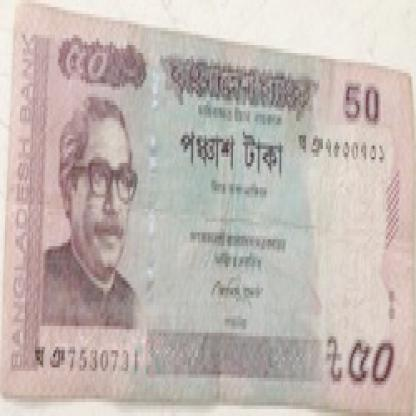Fifty taka: (342, 336, 402, 395), (60, 31, 116, 94)
